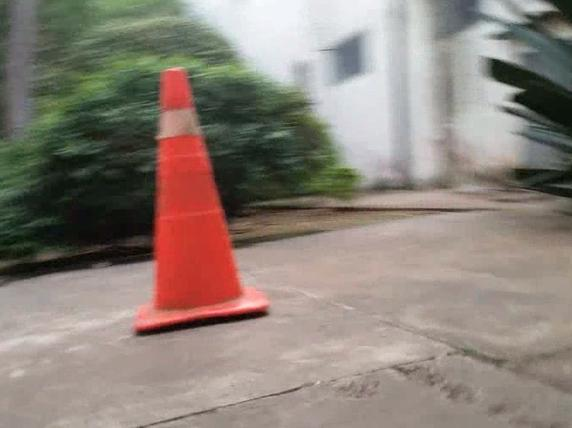0 cone: (117, 63, 274, 338)
